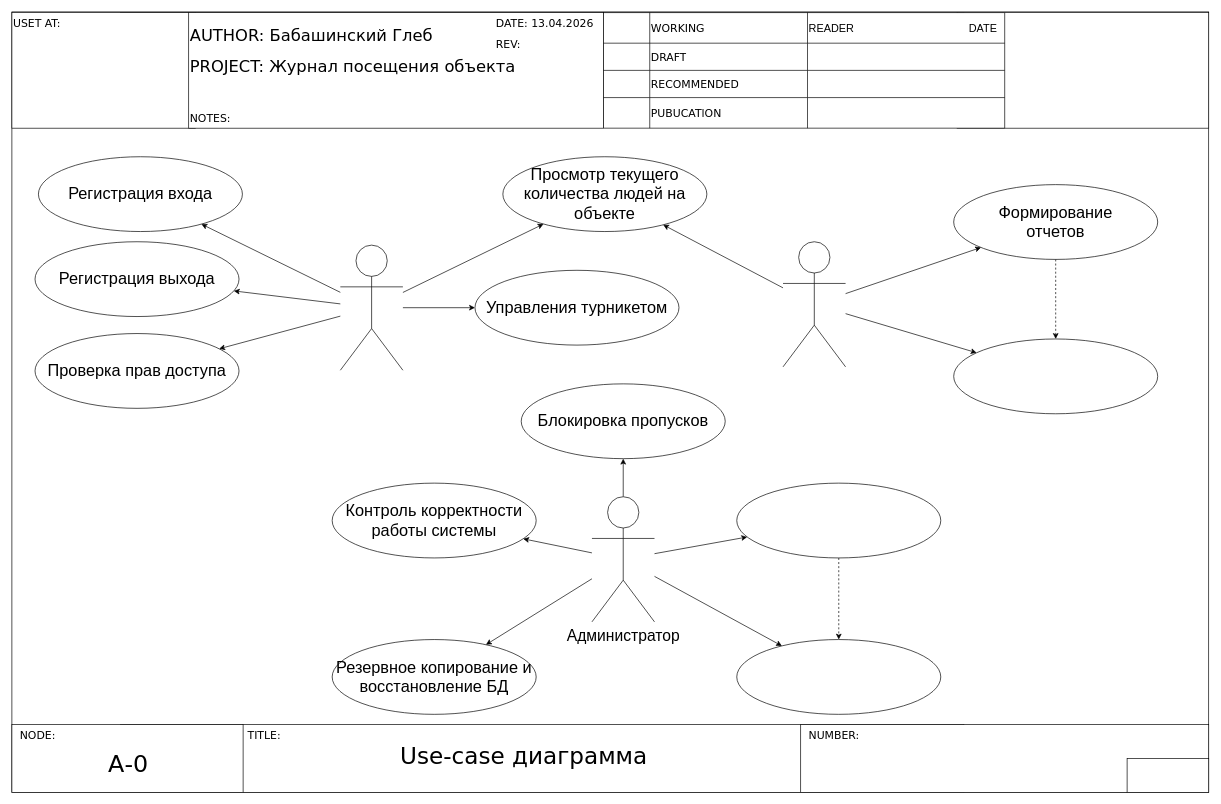
The diagram is 1221 pixels wide and 804 high, and some of its shapes have lost their labels. Each missing label, with the box of its shape:
CONTEXT:: (956, 12, 1209, 128)
Назначение и изменение ролей пользователей: (736, 639, 941, 714)
Просмотр журнала событий: (953, 338, 1158, 414)
Руководитель: (782, 241, 846, 367)
Сотрудник охраны: (340, 244, 403, 370)
Управление учетными записями: (736, 482, 941, 558)
